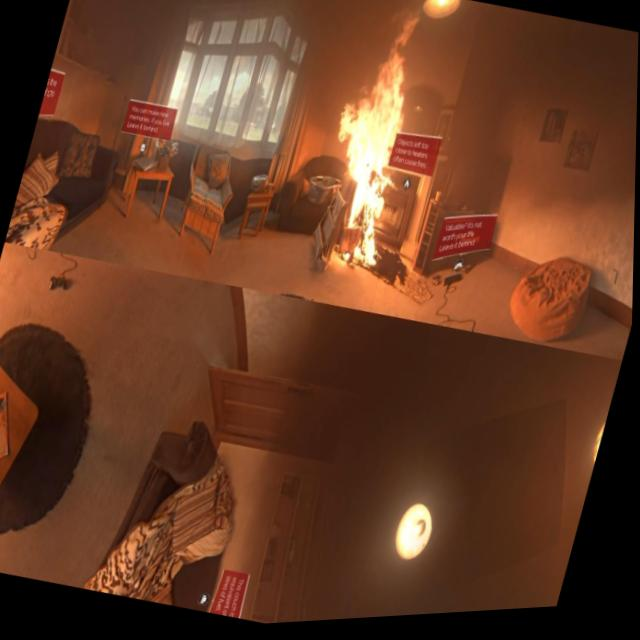fire: (296, 0, 453, 282)
